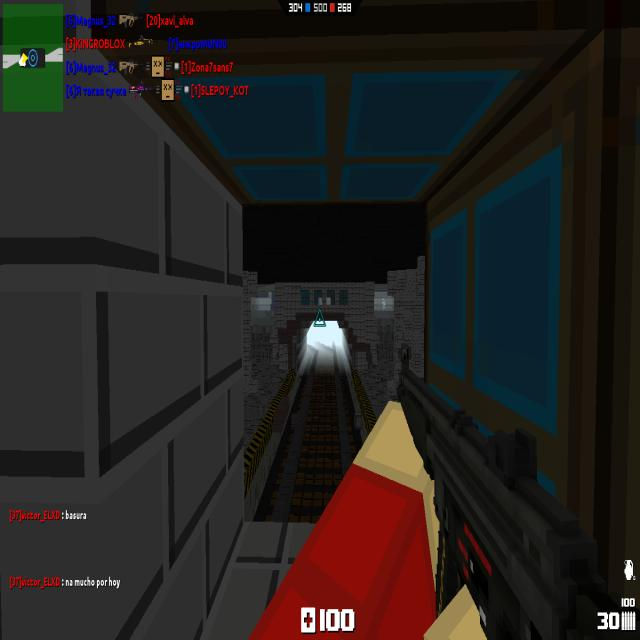enemy: (382, 298, 386, 310)
